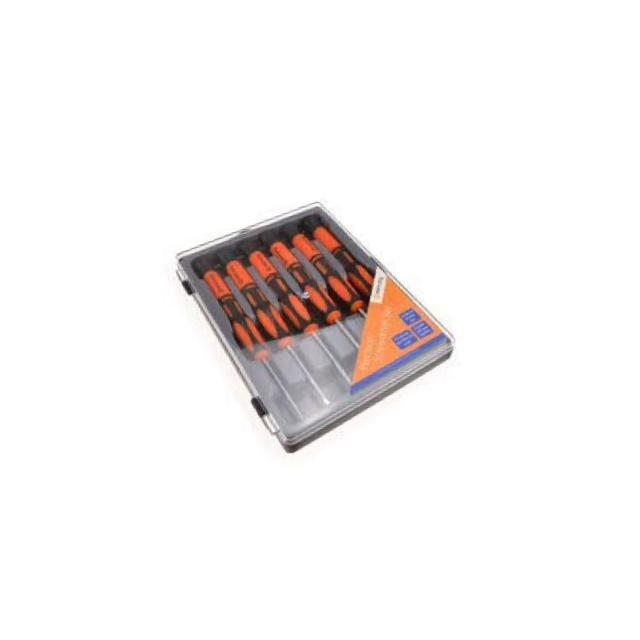screwdriver: (198, 252, 310, 440), (223, 246, 336, 424), (248, 235, 360, 408)
